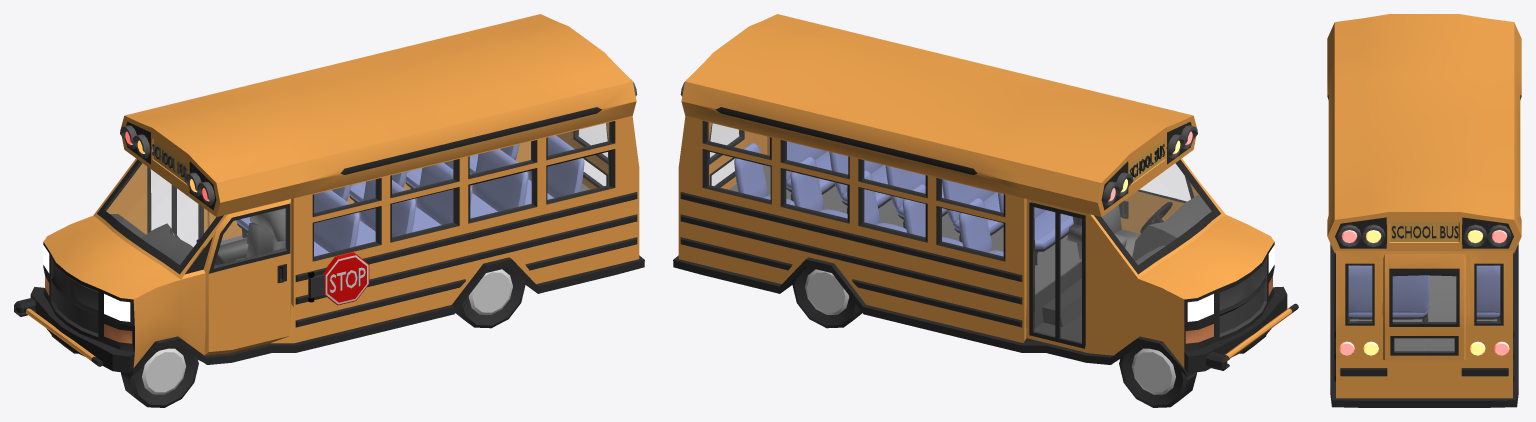
The model's file is SchoolBus.glb.
3 views of the same model, side by side, from view 1: azimuth 30°, elevation 25°; view 2: azimuth 150°, elevation 25°; view 3: azimuth 270°, elevation 25° (orthographic). The views are drawn at different scales.
Visible parts, largest first — view 1: Cube.009, Cube.010, Cube.027, Cube.011, Cube.048, Cube.017, Cylinder.001, Cylinder.003, Cube.025, Cube.039, Cube.016, Cylinder (+10 smaller); view 2: Cube.009, Cube.010, Cube.026, Cube.048, Cube.022, Cylinder.016, Cube.018, Cylinder.002, Cube.014, Cube.015, Cube.021, Cube.024 (+16 smaller); view 3: Cube.010, Cube.009, Cube.020, Cube.041, Cube.028, Cube.029, Cube.018, Cube.042, Text.003, Cylinder.011, Cylinder.009, Cylinder.010 (+3 smaller).
Part boxes in pixels (x1=…): Cube.009: x1=30, y1=115, x2=644, y2=377; Cube.010: x1=121, y1=14, x2=636, y2=216; Cube.027: x1=314, y1=123, x2=608, y2=256; Cube.011: x1=204, y1=199, x2=291, y2=355; Cube.048: x1=107, y1=164, x2=215, y2=264; Cube.017: x1=295, y1=192, x2=637, y2=304; Cylinder.001: x1=121, y1=346, x2=198, y2=407; Cylinder.003: x1=455, y1=267, x2=525, y2=328; Cube.025: x1=214, y1=208, x2=286, y2=267; Cube.039: x1=470, y1=149, x2=528, y2=218; Cube.016: x1=295, y1=237, x2=637, y2=327; Cylinder: x1=308, y1=252, x2=369, y2=305; Cube.009: x1=673, y1=115, x2=1287, y2=377; Cube.010: x1=681, y1=14, x2=1196, y2=216; Cube.026: x1=708, y1=123, x2=1002, y2=255; Cube.048: x1=1102, y1=164, x2=1210, y2=264; Cube.022: x1=680, y1=192, x2=1022, y2=304; Cylinder.016: x1=1119, y1=346, x2=1196, y2=407; Cube.018: x1=728, y1=165, x2=1081, y2=295; Cylinder.002: x1=792, y1=267, x2=862, y2=328; Cube.014: x1=1060, y1=214, x2=1081, y2=342; Cube.015: x1=1033, y1=207, x2=1054, y2=336; Cube.021: x1=680, y1=237, x2=1022, y2=327; Cube.024: x1=1129, y1=195, x2=1211, y2=352; Cube.010: x1=1327, y1=14, x2=1521, y2=253; Cube.009: x1=1330, y1=244, x2=1518, y2=407; Cube.020: x1=1382, y1=254, x2=1466, y2=360; Cube.041: x1=1348, y1=265, x2=1429, y2=321; Cube.028: x1=1393, y1=275, x2=1455, y2=321; Cube.029: x1=1348, y1=266, x2=1500, y2=320; Cube.018: x1=1350, y1=275, x2=1497, y2=351; Cube.042: x1=1476, y1=265, x2=1500, y2=321; Text.003: x1=1391, y1=226, x2=1458, y2=238; Cylinder.011: x1=1463, y1=224, x2=1487, y2=247; Cylinder.009: x1=1361, y1=224, x2=1385, y2=247; Cylinder.010: x1=1487, y1=224, x2=1511, y2=247.
Size of the model in its own units: 38.88 by 15.32 by 12.31.
